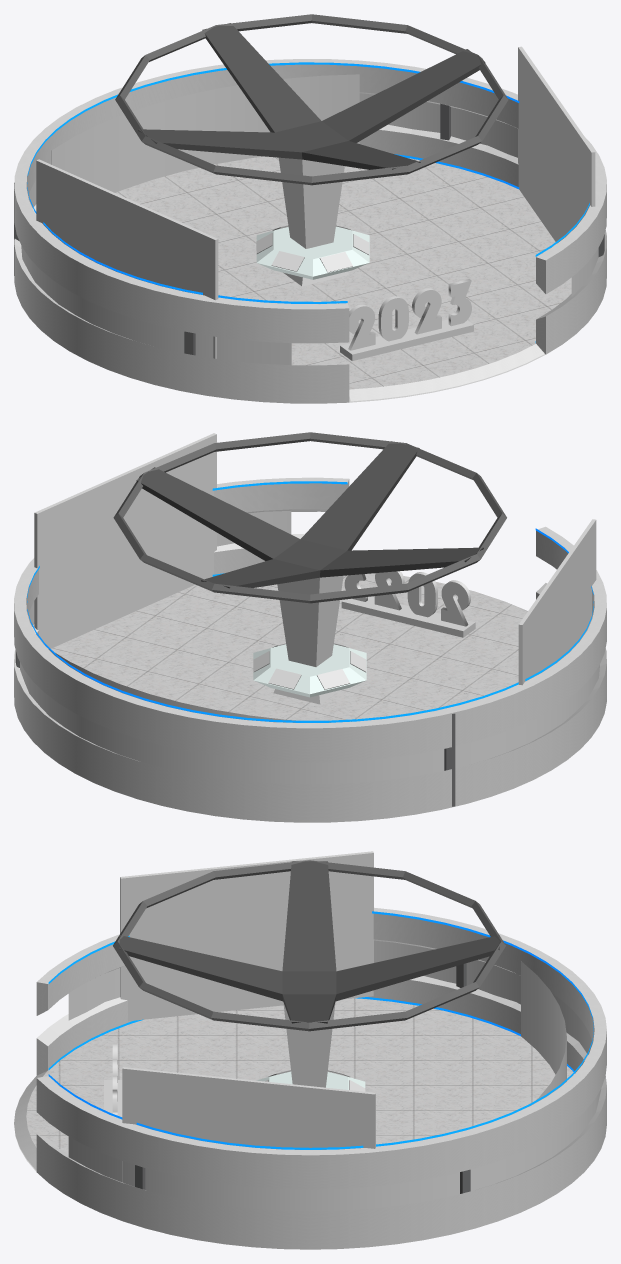
The model's file is zhanguan.glb.
3 views of the same model, one above another, from view 1: azimuth 30°, elevation 25°; view 2: azimuth 150°, elevation 25°; view 3: azimuth 270°, elevation 25° (orthographic).
Visible parts, largest first — view 1: 墙体, 地面, 环形屏幕, 中间柱子, 大屏幕01, 大屏幕02, 环体, 柱子屏幕, 2023, 操作台, 墙体灯带, 2023底台 (+2 smaller); view 2: 墙体, 地面, 大屏幕02, 中间柱子, 环形屏幕, 环体, 大屏幕01, 柱子屏幕, 2023, 操作台, 墙体灯带, 2023底台 (+2 smaller); view 3: 墙体, 地面, 大屏幕01, 环形屏幕, 大屏幕02, 中间柱子, 环体, 墙体灯带, 柱子屏幕, 柱子, 操作台.
Boxes of the visible parts, x1=… form: 墙体: x1=14, y1=59, x2=606, y2=403; 地面: x1=115, y1=156, x2=571, y2=389; 环形屏幕: x1=21, y1=74, x2=598, y2=365; 中间柱子: x1=138, y1=23, x2=485, y2=169; 大屏幕01: x1=36, y1=159, x2=218, y2=358; 大屏幕02: x1=518, y1=46, x2=595, y2=243; 环体: x1=115, y1=14, x2=508, y2=185; 柱子屏幕: x1=278, y1=157, x2=348, y2=286; 2023: x1=348, y1=279, x2=471, y2=350; 操作台: x1=256, y1=226, x2=369, y2=279; 墙体灯带: x1=27, y1=62, x2=589, y2=342; 2023底台: x1=340, y1=319, x2=473, y2=360; 墙体: x1=14, y1=477, x2=606, y2=822; 地面: x1=51, y1=573, x2=527, y2=722; 大屏幕02: x1=34, y1=433, x2=216, y2=648; 中间柱子: x1=136, y1=441, x2=483, y2=588; 环形屏幕: x1=20, y1=511, x2=599, y2=784; 环体: x1=113, y1=432, x2=506, y2=603; 大屏幕01: x1=518, y1=519, x2=596, y2=685; 柱子屏幕: x1=273, y1=575, x2=343, y2=704; 2023: x1=344, y1=571, x2=470, y2=626; 操作台: x1=253, y1=644, x2=366, y2=697; 墙体灯带: x1=27, y1=481, x2=593, y2=722; 2023底台: x1=341, y1=596, x2=475, y2=637; 墙体: x1=14, y1=907, x2=606, y2=1249; 地面: x1=26, y1=998, x2=574, y2=1154; 大屏幕01: x1=120, y1=851, x2=373, y2=1021; 环形屏幕: x1=68, y1=940, x2=601, y2=1211; 大屏幕02: x1=122, y1=1067, x2=375, y2=1182; 中间柱子: x1=119, y1=861, x2=499, y2=1023; 环体: x1=113, y1=860, x2=505, y2=1031; 墙体灯带: x1=48, y1=911, x2=593, y2=1149; 柱子屏幕: x1=283, y1=1002, x2=335, y2=1087; 柱子: x1=135, y1=963, x2=470, y2=1193; 操作台: x1=256, y1=1071, x2=365, y2=1089.
Size of the model in its own units: 24.91 by 8.5 by 24.92.
Materials: 10 (2 with a texture image).
